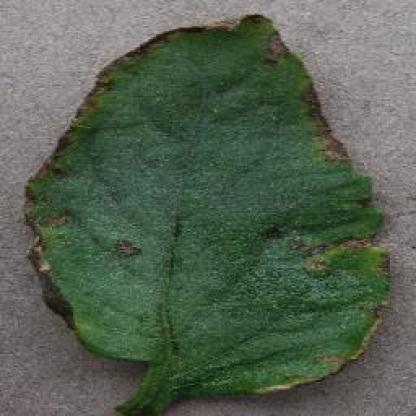bad leaf: (66, 34, 369, 366)
